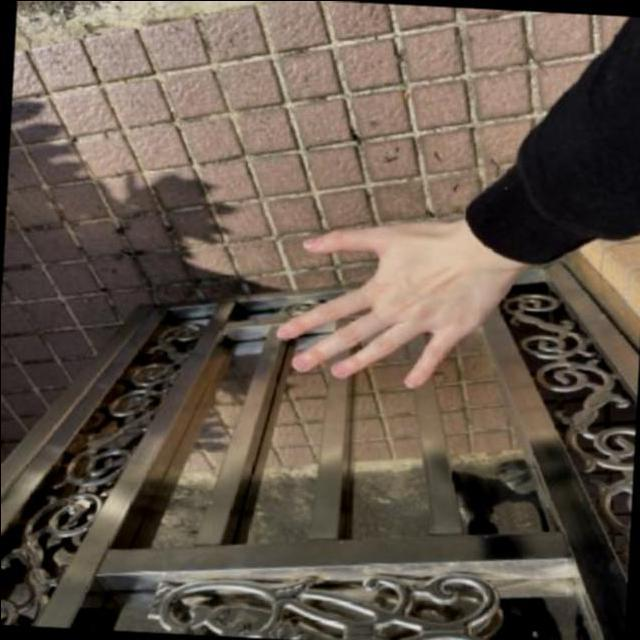hand: (264, 205, 518, 412)
